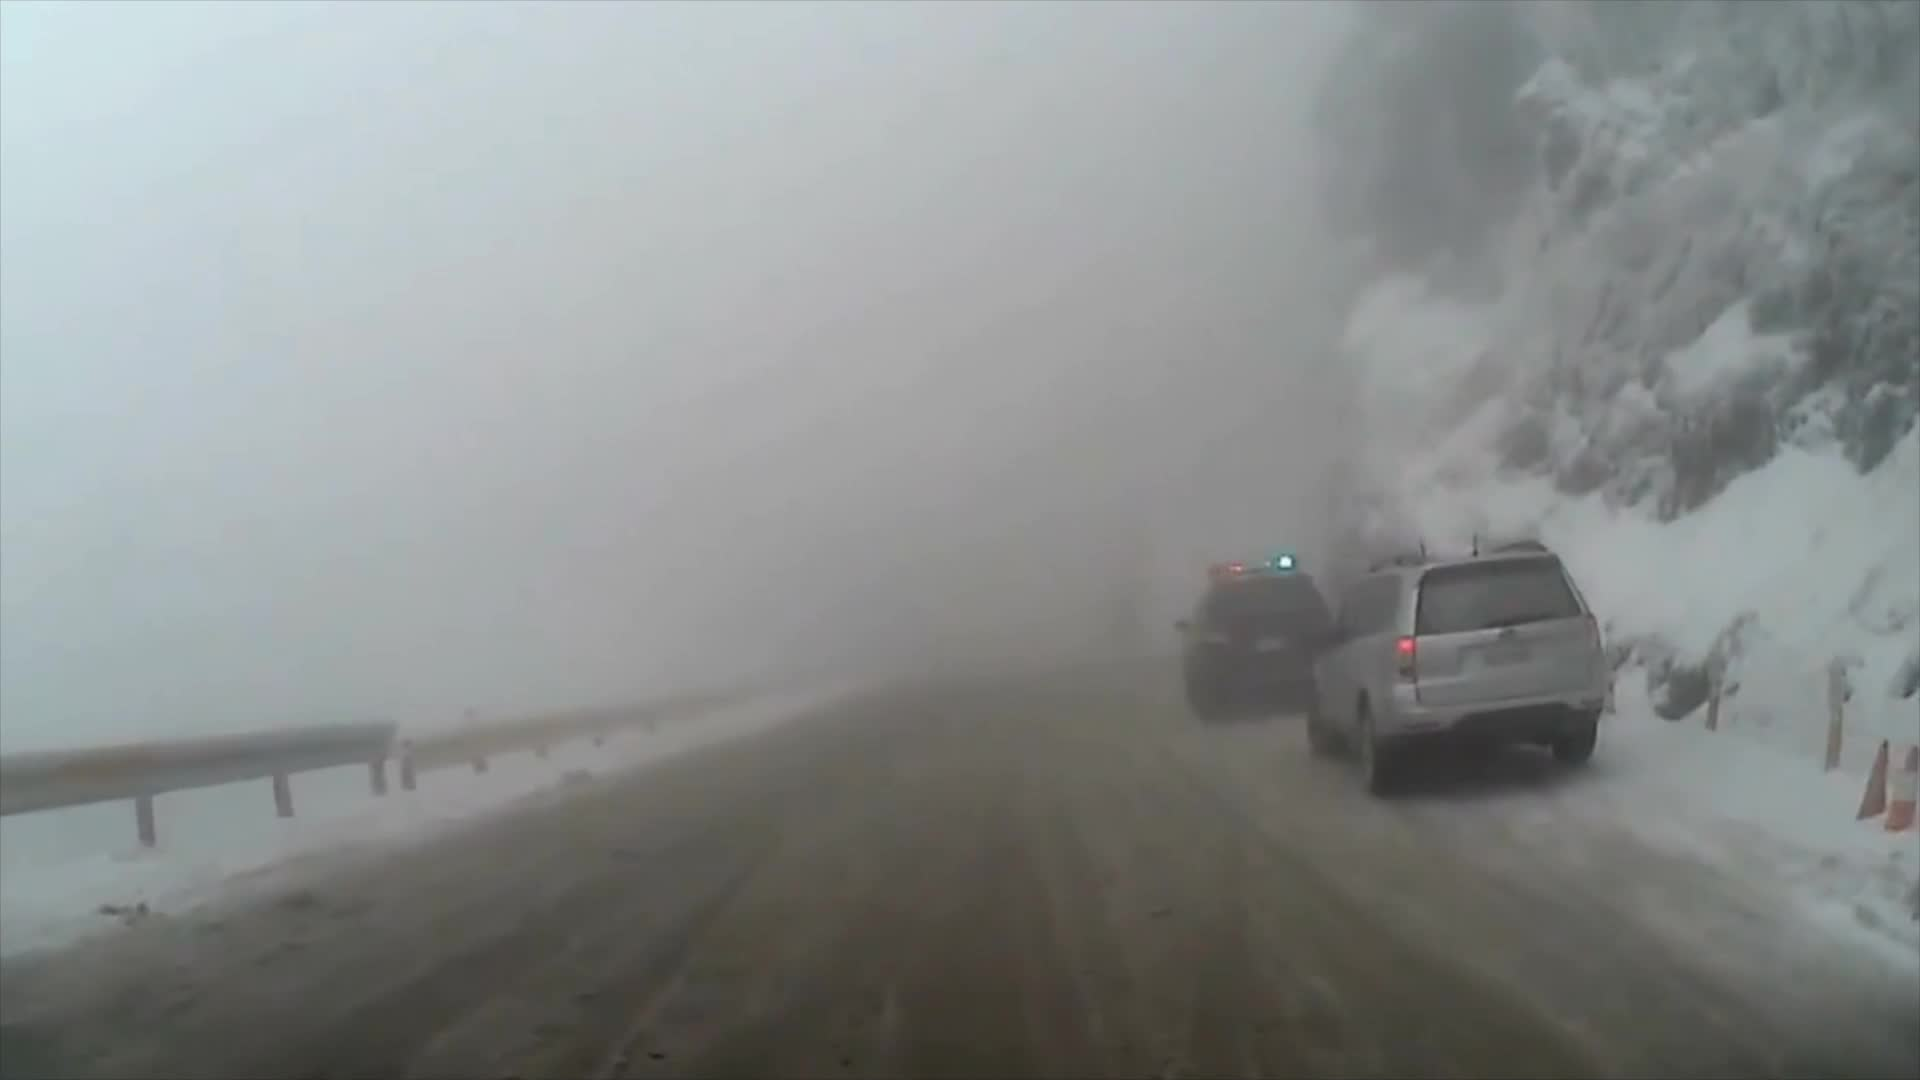vehicle: (1302, 538, 1609, 800), (1171, 554, 1338, 723)
